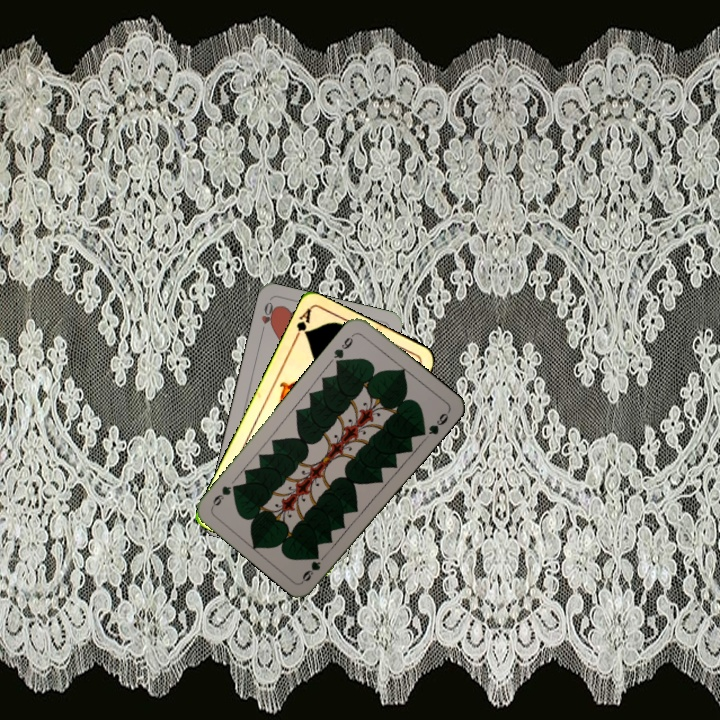G9: (329, 329, 358, 367), (298, 558, 323, 584)
GA: (290, 305, 314, 344)
HO: (257, 298, 278, 337)
